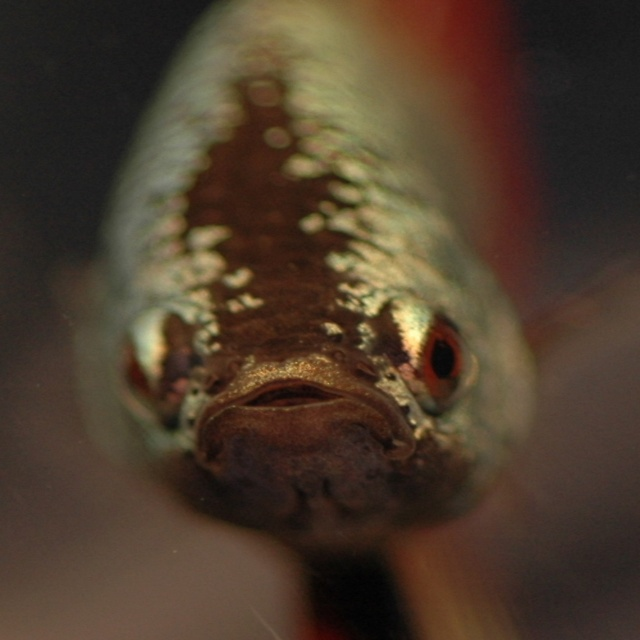Fish: (68, 0, 537, 555)
